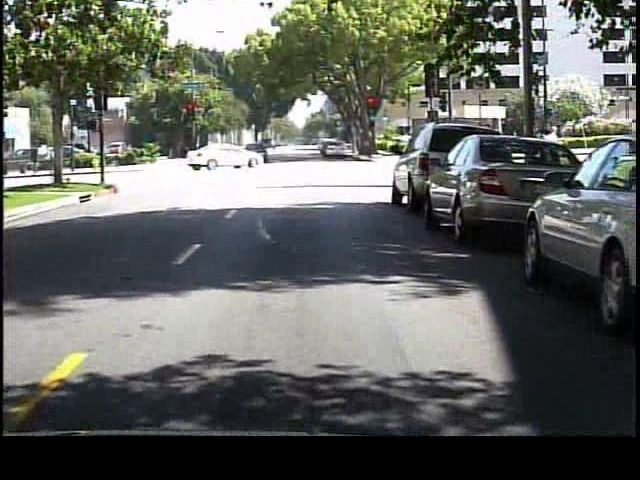person: (258, 140, 275, 170)
